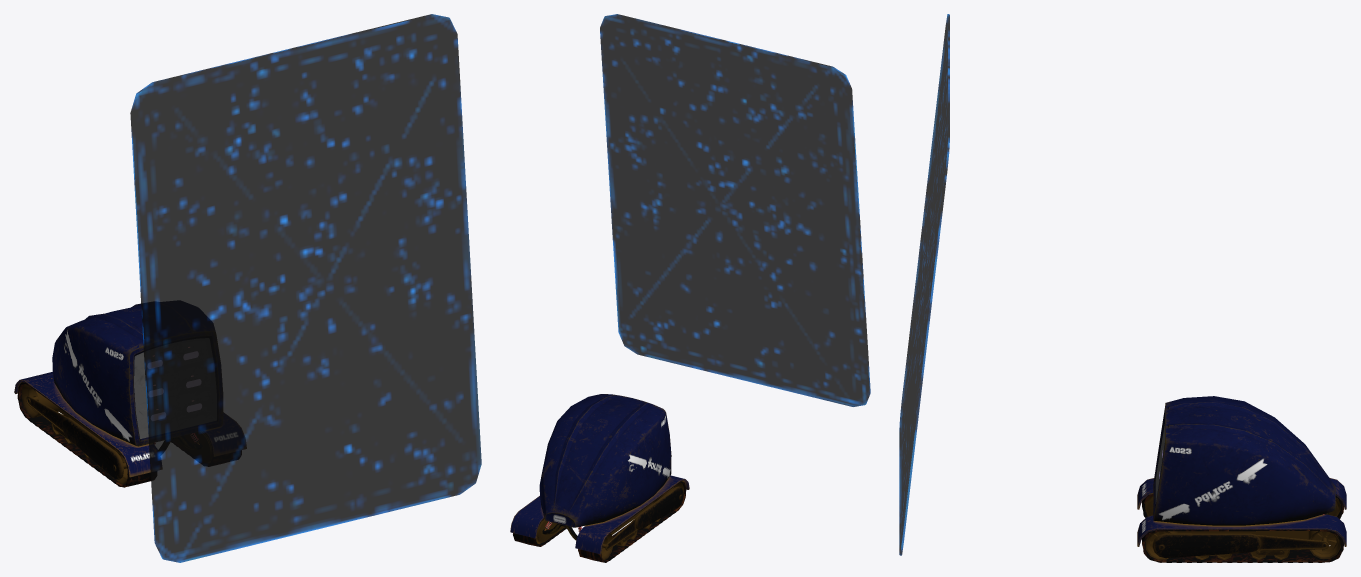
File: hologram_police_robots.glb
The picture shows the model from 3 angles, left to right: view 1: azimuth 30°, elevation 25°; view 2: azimuth 150°, elevation 25°; view 3: azimuth 270°, elevation 25°; orthographic projection. The views are drawn at different scales.
Parts seen in each view (by area): view 1: Hologram, Body, Dirt Protection, Caterpillar Inside, Caterpillar Tape, Glass; view 2: Hologram, Body, Dirt Protection, Caterpillar Inside, Caterpillar Tape; view 3: Body, Hologram, Caterpillar Inside, Dirt Protection, Caterpillar Tape.
Boxes of the visible parts, x1,y1,x2,y2 form: Hologram: [130, 14, 481, 562]; Body: [52, 301, 222, 446]; Dirt Protection: [14, 372, 246, 477]; Caterpillar Inside: [21, 384, 211, 484]; Caterpillar Tape: [17, 382, 241, 487]; Glass: [134, 352, 148, 438]; Hologram: [600, 14, 870, 406]; Body: [539, 394, 671, 527]; Dirt Protection: [510, 475, 689, 554]; Caterpillar Inside: [536, 483, 683, 560]; Caterpillar Tape: [513, 481, 686, 562]; Body: [1153, 396, 1335, 525]; Hologram: [899, 14, 949, 555]; Caterpillar Inside: [1145, 496, 1340, 559]; Dirt Protection: [1137, 478, 1346, 546]; Caterpillar Tape: [1141, 494, 1343, 562].
Size of what is drawn, in the model's own units: 3.74 by 5.59 by 4.91.
11 materials, 9 textured.
